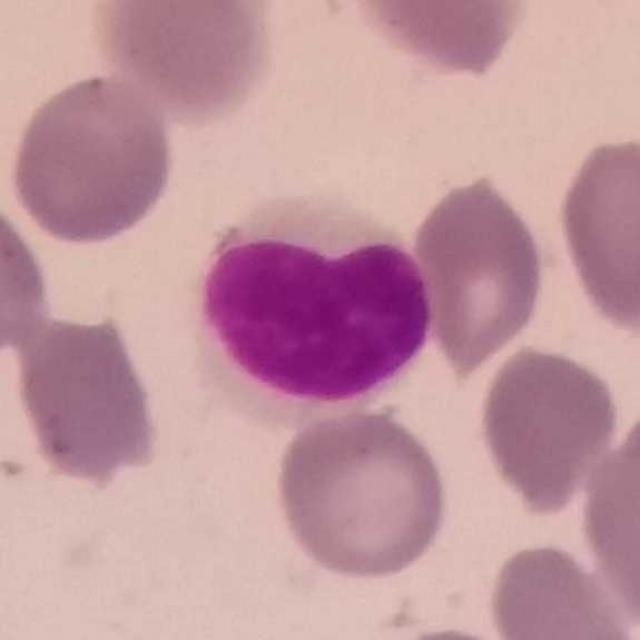Lymphocyte: (193, 184, 444, 410)
RBC: (268, 404, 454, 582), (3, 68, 180, 249), (408, 169, 551, 374), (8, 308, 168, 491), (473, 340, 623, 516), (87, 0, 285, 122), (553, 129, 639, 336), (330, 0, 536, 79), (483, 538, 637, 640), (574, 404, 640, 632), (0, 190, 55, 362), (361, 622, 543, 640)
